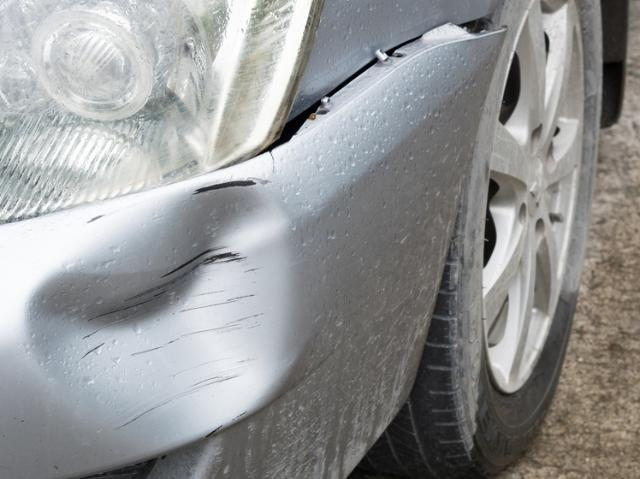Bumper: (9, 186, 373, 440)
